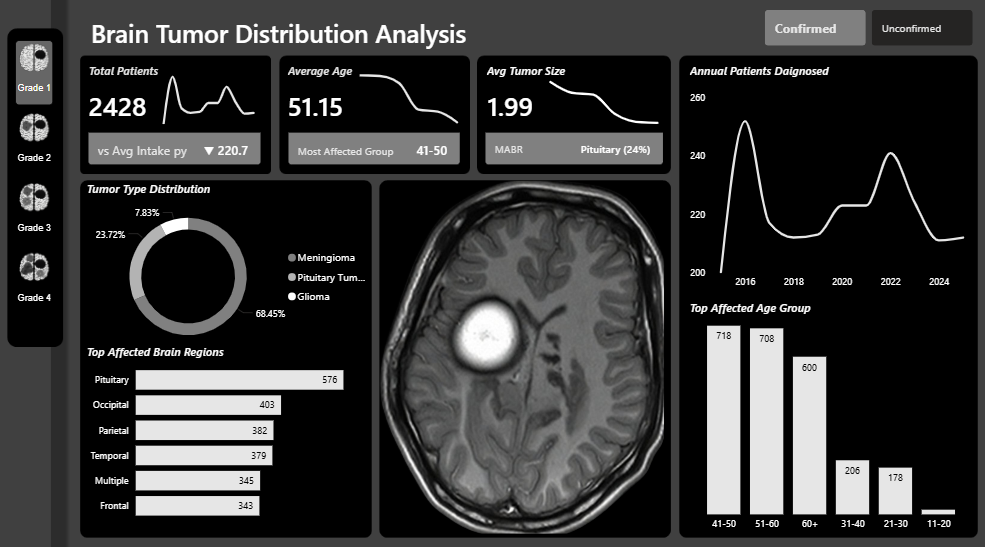

What the dashboard file says about the page in this screenshot:
{"tool":"powerbi","page":{"name":"Page 1","canvas":[1280,720],"ordinal":0},"visuals":[{"type":"cardVisual","fields":{"Data":["Count(Brain Tumor Data.Patient ID)"]},"box":[92.1,96.4,137.5,89.3],"z":0},{"type":"lineChart","fields":{"Category":["Brain Tumor Data.Date of Diagnosis.Variation.Date Hierarchy.Year"],"Y":["CountNonNull(Brain Tumor Data.Patient ID)"]},"box":[202.7,83.6,146,89.3],"z":1000},{"type":"cardVisual","fields":{"Data":["Count(Brain Tumor Data.Patient ID)"]},"box":[92.1,83.6,280.6,165.8],"z":2000},{"type":"textbox","box":[116.2,83.6,113.4,45.4],"z":3000},{"type":"cardVisual","fields":{"Data":["Avg(Brain Tumor Data.Age)"]},"box":[348.7,96.4,151.7,89.3],"z":4000},{"type":"lineChart","fields":{"Y":["CountNonNull(Brain Tumor Data.Patient ID)"],"Category":["Brain Tumor Data.Age Group"]},"box":[456.4,83.6,154.5,89.3],"z":5000},{"type":"cardVisual","fields":{"Data":["Count(Brain Tumor Data.Patient ID)"]},"box":[350.1,83.6,279.2,165.8],"z":6000},{"type":"textbox","box":[372.8,83.6,113.4,45.4],"z":7000},{"type":"textbox","box":[629.3,83.6,113.4,45.4],"z":8000},{"type":"cardVisual","fields":{"Data":["Count(Brain Tumor Data.Patient ID)"]},"box":[603.8,83.6,287.7,165.8],"z":9000},{"type":"cardVisual","fields":{"Data":["Avg(Brain Tumor Data.Tumor Size (cm))"]},"box":[606.6,96.4,141.7,89.3],"z":10000},{"type":"lineChart","fields":{"Y":["Avg(Brain Tumor Data.Tumor Size (cm))"],"Category":["Brain Tumor Data.Affected Brain Region"]},"box":[700.2,83.6,170.1,89.3],"z":11000},{"type":"advancedSlicerVisual","fields":{"Values":["Brain Tumor Data.Histology Confirmation"]},"box":[987.9,15.6,279.2,56.7],"z":12000},{"type":"ChicletSlicer1448559807354","fields":{"Category":["Tumor Images.Tumor Grade"],"Image":["Tumor Images.Icon URL"]},"box":[18.4,51,73.7,395.4],"z":13000},{"type":"imageDB603108E3FF4EBFB8047F5653368E8C","fields":{"imageUrl":["Tumor Images.Image URL"]},"box":[490.4,236.7,379.8,464.9],"z":14000},{"type":"donutChart","fields":{"Category":["Brain Tumor Data.Tumor Type"],"Y":["CountNonNull(Brain Tumor Data.Patient ID)"]},"box":[116.2,249.4,377,231],"z":15000},{"type":"textbox","box":[113.4,236.7,177.2,45.4],"z":16000},{"type":"clusteredBarChart","fields":{"Category":["Brain Tumor Data.Affected Brain Region"],"Y":["CountNonNull(Brain Tumor Data.Patient ID)"]},"box":[113.4,459.2,367.1,232.4],"z":17000},{"type":"textbox","box":[113.4,446.5,205.5,45.4],"z":18000},{"type":"lineChart","fields":{"Y":["CountNonNull(Brain Tumor Data.Patient ID)"],"Category":["Brain Tumor Data.Date of Diagnosis.Variation.Date Hierarchy.Year"]},"box":[891.5,120.5,375.6,269.3],"z":19000},{"type":"textbox","box":[891.5,83.6,205.5,36.9],"z":20000},{"type":"clusteredColumnChart","fields":{"Category":["Brain Tumor Data.Age Group"],"Y":["CountNonNull(Brain Tumor Data.Patient ID)"]},"box":[891.5,389.8,375.6,311.8],"z":21000},{"type":"textbox","box":[891.5,389.8,188.5,39.7],"z":22000},{"type":"textbox","box":[119.1,22.7,521.6,60.9],"z":22001}]}

Visuals, with their boxes in screenshot pixels (x1, y1, x2, y2), scaled from the page's 1280x720 canvas onto the 985x547 screenshot:
cardVisual - Count(Brain Tumor Data.Patient ID): bbox=(71, 73, 177, 141)
lineChart - Brain Tumor Data.Date of Diagnosis.Variation.Date Hierarchy.Year x CountNonNull(Brain Tumor Data.Patient ID): bbox=(156, 64, 268, 131)
cardVisual - Count(Brain Tumor Data.Patient ID): bbox=(71, 64, 287, 189)
textbox: bbox=(89, 64, 177, 98)
cardVisual - Avg(Brain Tumor Data.Age): bbox=(268, 73, 385, 141)
lineChart - CountNonNull(Brain Tumor Data.Patient ID) x Brain Tumor Data.Age Group: bbox=(351, 64, 470, 131)
cardVisual - Count(Brain Tumor Data.Patient ID): bbox=(269, 64, 484, 189)
textbox: bbox=(287, 64, 374, 98)
textbox: bbox=(484, 64, 572, 98)
cardVisual - Count(Brain Tumor Data.Patient ID): bbox=(465, 64, 686, 189)
cardVisual - Avg(Brain Tumor Data.Tumor Size (cm)): bbox=(467, 73, 576, 141)
lineChart - Avg(Brain Tumor Data.Tumor Size (cm)) x Brain Tumor Data.Affected Brain Region: bbox=(539, 64, 670, 131)
advancedSlicerVisual - Brain Tumor Data.Histology Confirmation: bbox=(760, 12, 975, 55)
ChicletSlicer1448559807354 - Tumor Images.Tumor Grade x Tumor Images.Icon URL: bbox=(14, 39, 71, 339)
imageDB603108E3FF4EBFB8047F5653368E8C - Tumor Images.Image URL: bbox=(377, 180, 670, 533)
donutChart - Brain Tumor Data.Tumor Type x CountNonNull(Brain Tumor Data.Patient ID): bbox=(89, 189, 380, 365)
textbox: bbox=(87, 180, 224, 214)
clusteredBarChart - Brain Tumor Data.Affected Brain Region x CountNonNull(Brain Tumor Data.Patient ID): bbox=(87, 349, 370, 525)
textbox: bbox=(87, 339, 245, 374)
lineChart - CountNonNull(Brain Tumor Data.Patient ID) x Brain Tumor Data.Date of Diagnosis.Variation.Date Hierarchy.Year: bbox=(686, 92, 975, 296)
textbox: bbox=(686, 64, 844, 92)
clusteredColumnChart - Brain Tumor Data.Age Group x CountNonNull(Brain Tumor Data.Patient ID): bbox=(686, 296, 975, 533)
textbox: bbox=(686, 296, 831, 326)
textbox: bbox=(92, 17, 493, 64)
